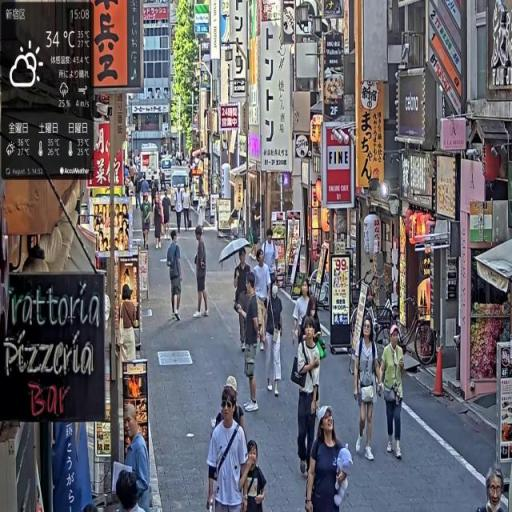person: (207, 384, 251, 512), (307, 406, 353, 512), (294, 320, 323, 479), (354, 317, 382, 467), (378, 325, 407, 461), (239, 275, 264, 412), (125, 404, 152, 512), (264, 280, 285, 400), (239, 439, 270, 512), (253, 249, 271, 351), (167, 230, 185, 324), (193, 225, 210, 319), (154, 192, 166, 251), (141, 194, 152, 250), (184, 186, 194, 231)
